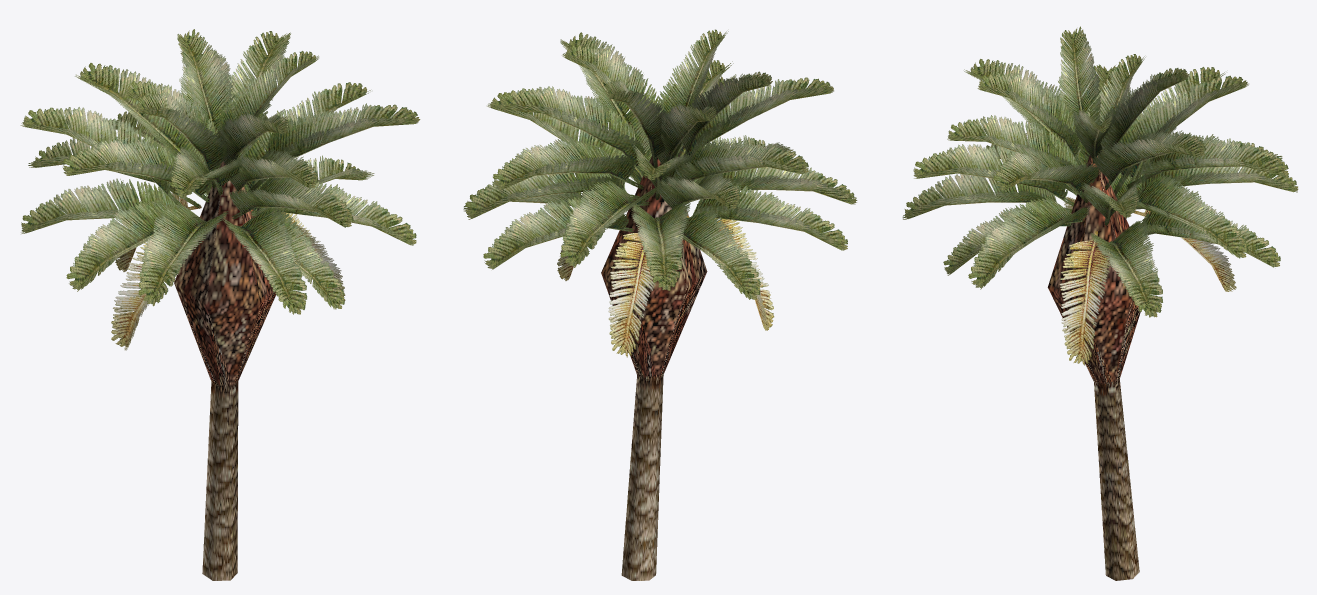
Rendered from flora_tree_cretan_date_palm_short.glb.
3 views of the same model, side by side, from view 1: azimuth 30°, elevation 25°; view 2: azimuth 150°, elevation 25°; view 3: azimuth 270°, elevation 25° (orthographic). The views are drawn at different scales.
Visible parts, largest first — view 1: flora_tree_cretan_date_palm_short_part0; view 2: flora_tree_cretan_date_palm_short_part0; view 3: flora_tree_cretan_date_palm_short_part0.
Boxes of the visible parts, bbox=[...] form: flora_tree_cretan_date_palm_short_part0: bbox=[20, 29, 420, 580]; flora_tree_cretan_date_palm_short_part0: bbox=[463, 29, 857, 580]; flora_tree_cretan_date_palm_short_part0: bbox=[902, 26, 1298, 580].
Bounding box in the file's own units: 7.92 × 11.23 × 8.05.
Materials: 1 (1 with a texture image).
